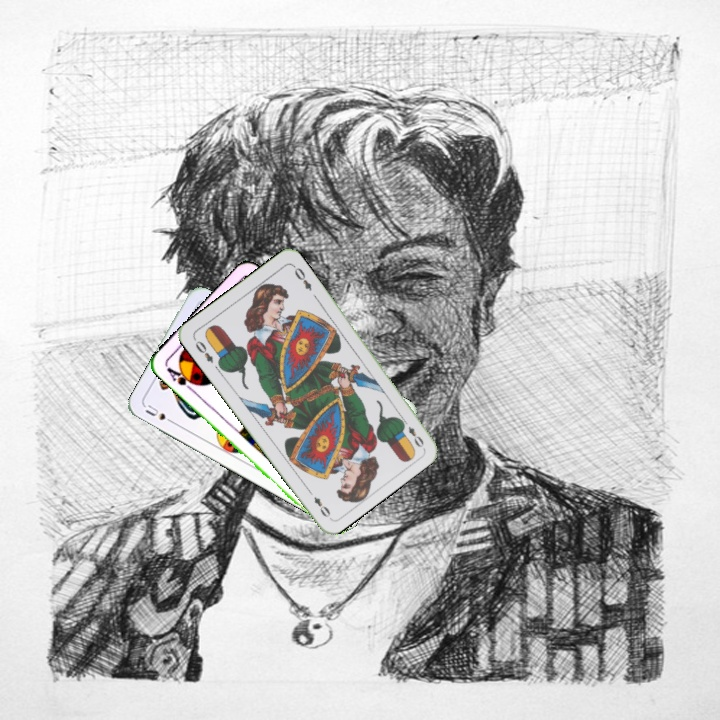EO: (397, 414, 427, 450), (191, 336, 216, 366)
SA: (162, 363, 200, 394)
SU: (141, 400, 178, 427)
